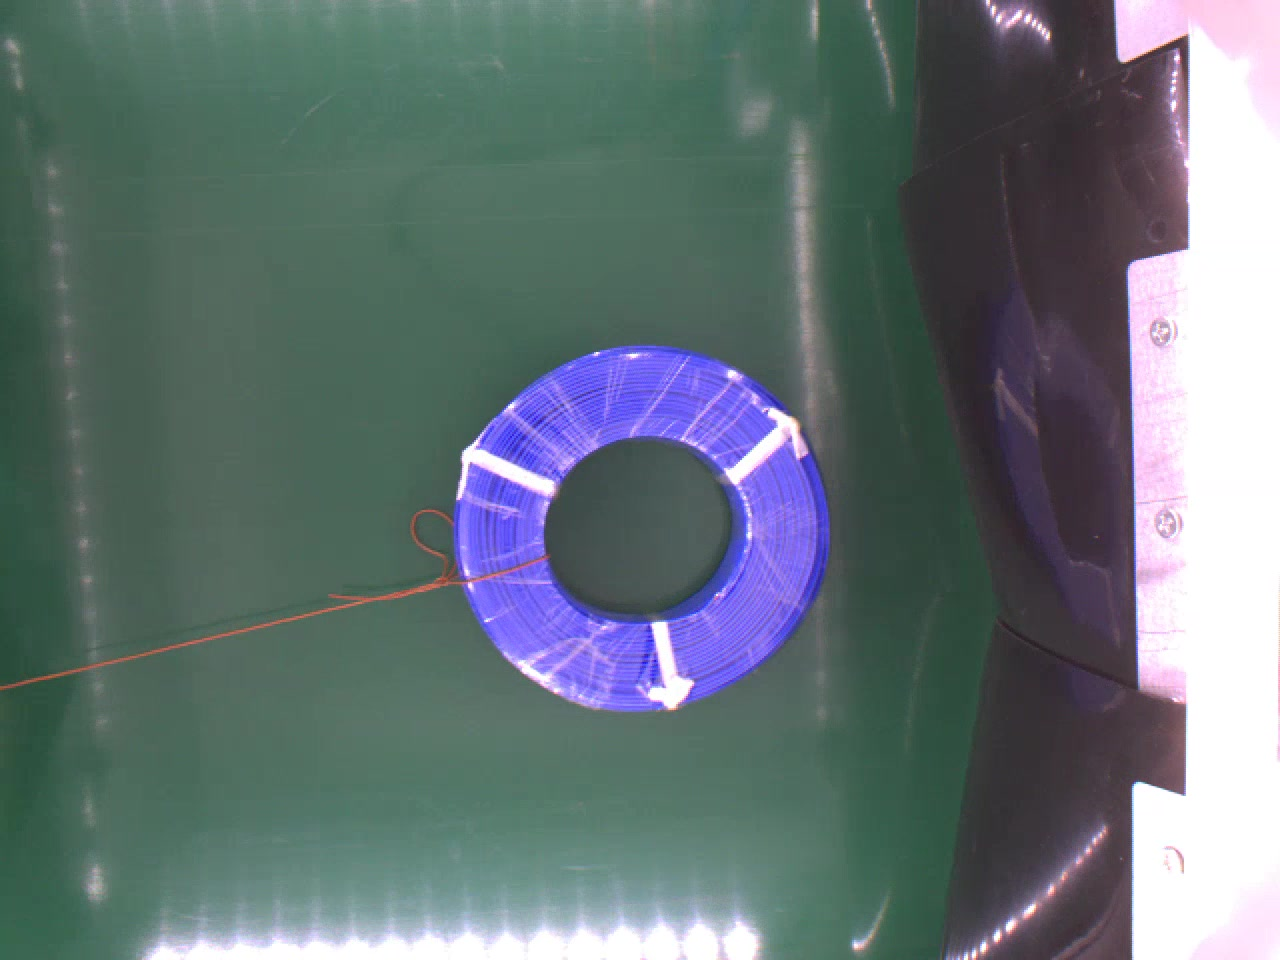blue: (455, 341, 836, 709)
